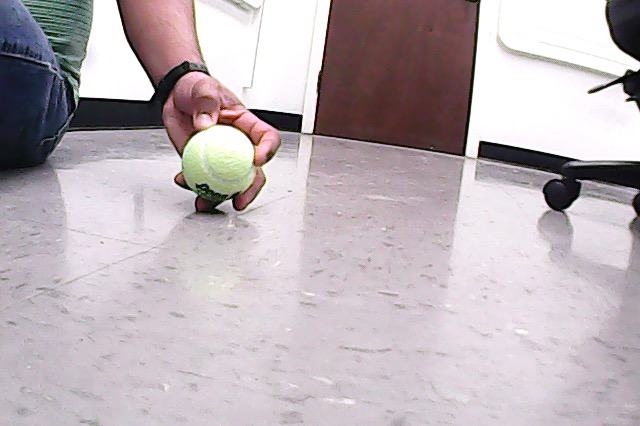ball: (180, 123, 261, 204)
